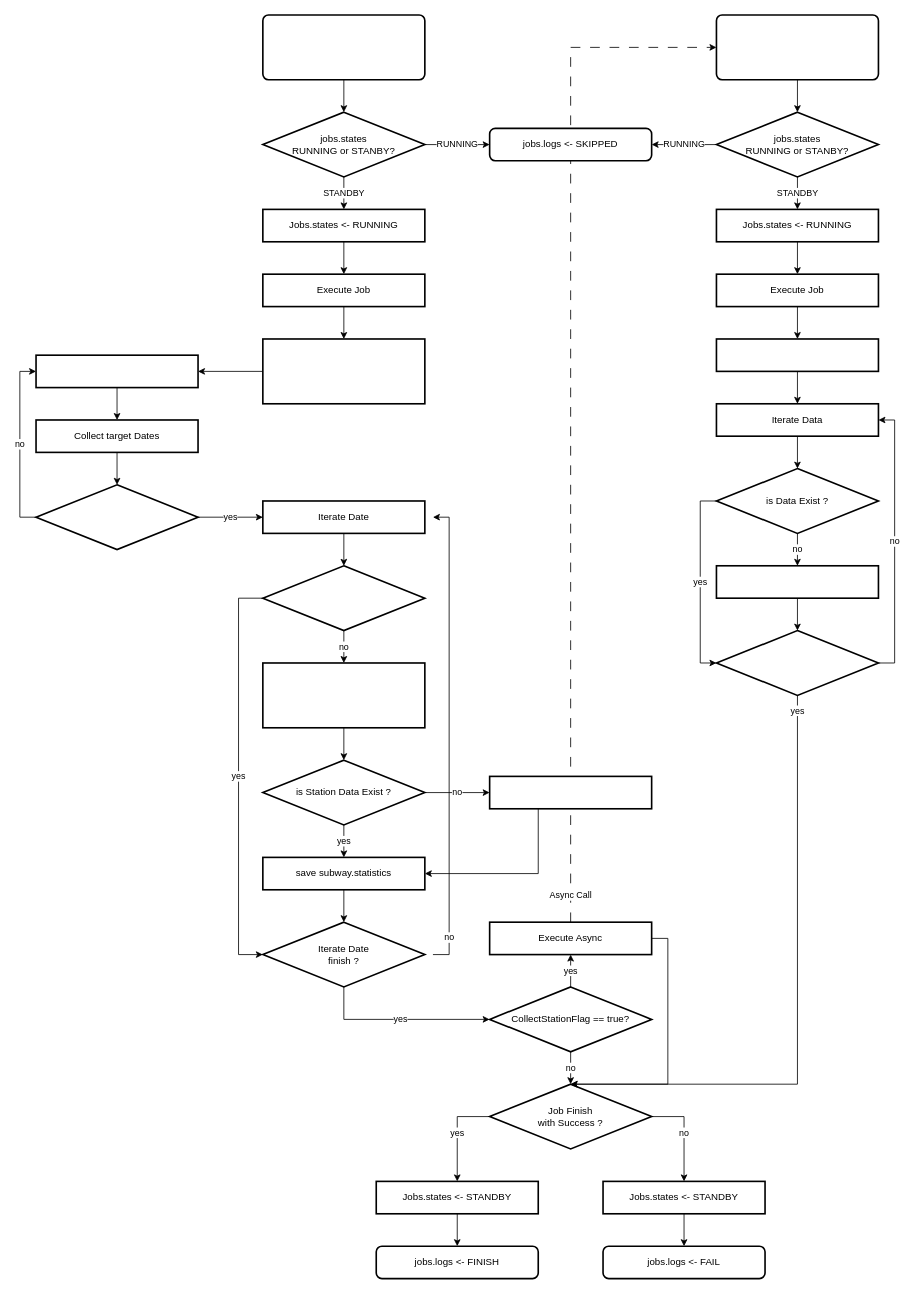
Some shapes in this 915 by 1293 pixel diagram are drawn without their labels. The shapes that lost their labels are listed below. From the top down, each one's centre as x and y in pixels, then its label:
point (343, 47): Execute Job Collect Station Statistics
point (797, 47): Execute Job Collect Station Info
point (116, 371): Iterate Beans
point (343, 371): Query Target Dates from Other Modules
point (797, 355): Get Data From SeoulOpenAPI
point (116, 517): Iterate Bean finish ?
point (343, 598): is Statistics Data Exist ?
point (797, 582): save subway.stations
point (797, 662): Iterate Data finish ?
point (343, 695): Get Data From SeoulOpenAPI by Date
point (570, 792): CollectStationFlag <- true
